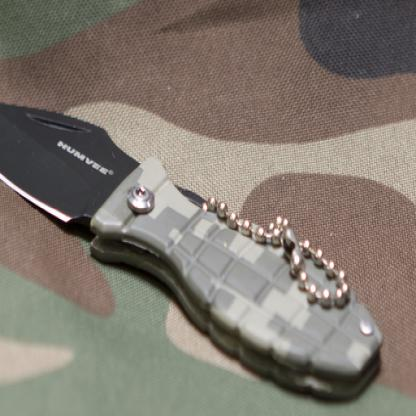knife: (0, 94, 389, 406)
